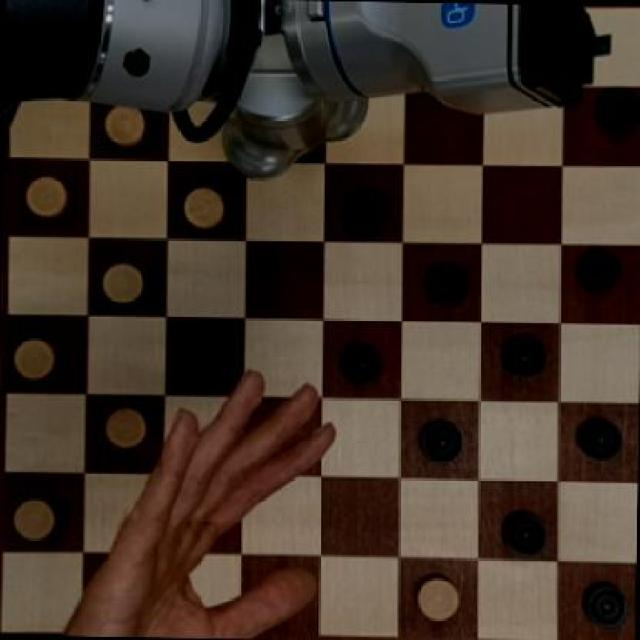black: (409, 406, 468, 466), (406, 252, 469, 308), (326, 333, 388, 387), (570, 248, 634, 300), (490, 503, 548, 556), (573, 411, 628, 466), (337, 173, 392, 227), (495, 332, 549, 377), (576, 581, 626, 628), (589, 87, 640, 132)
white: (91, 403, 154, 456), (5, 491, 58, 545), (98, 256, 154, 306), (413, 574, 465, 627), (12, 331, 62, 386), (182, 184, 230, 234), (19, 167, 64, 218), (103, 110, 149, 148)
